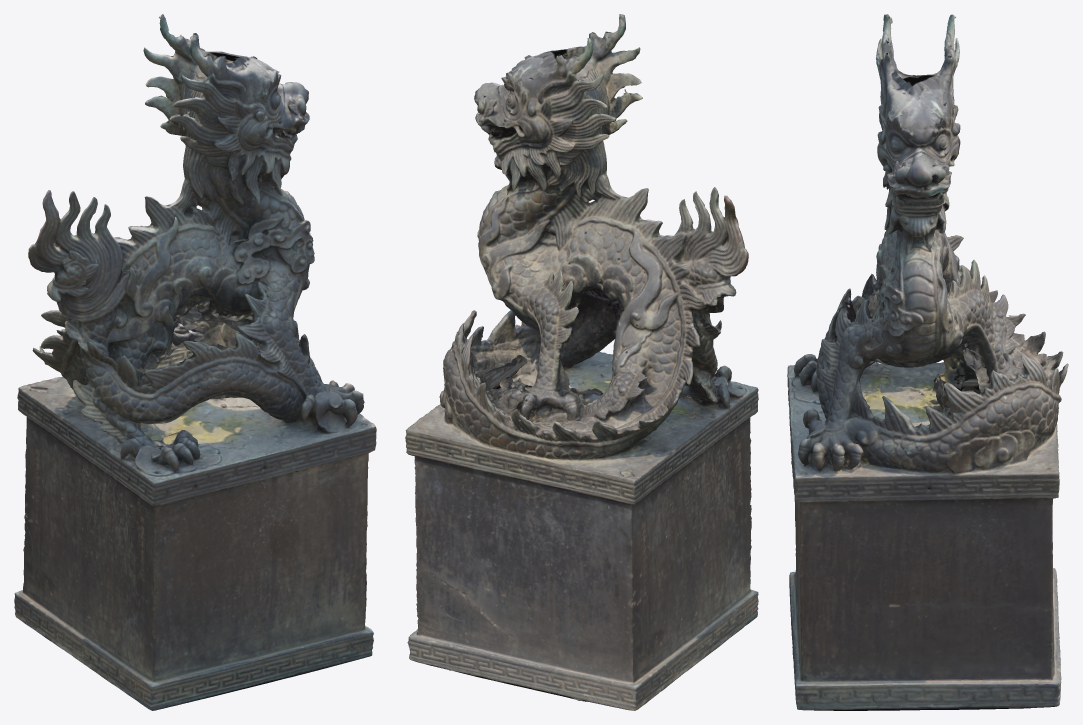
Rendered from rong.glb.
3 views of the same model, side by side, from view 1: azimuth 30°, elevation 25°; view 2: azimuth 150°, elevation 25°; view 3: azimuth 270°, elevation 25° (orthographic). The views are drawn at different scales.
Visible parts, largest first — view 1: Object_2; view 2: Object_2; view 3: Object_2.
Part boxes in pixels (x1=…): Object_2: x1=14, y1=14, x2=376, y2=710; Object_2: x1=405, y1=14, x2=758, y2=710; Object_2: x1=787, y1=14, x2=1068, y2=710.
Size of the model in its own units: 0.4943 by 1.04 by 0.4157.
1 material, 1 textured.
